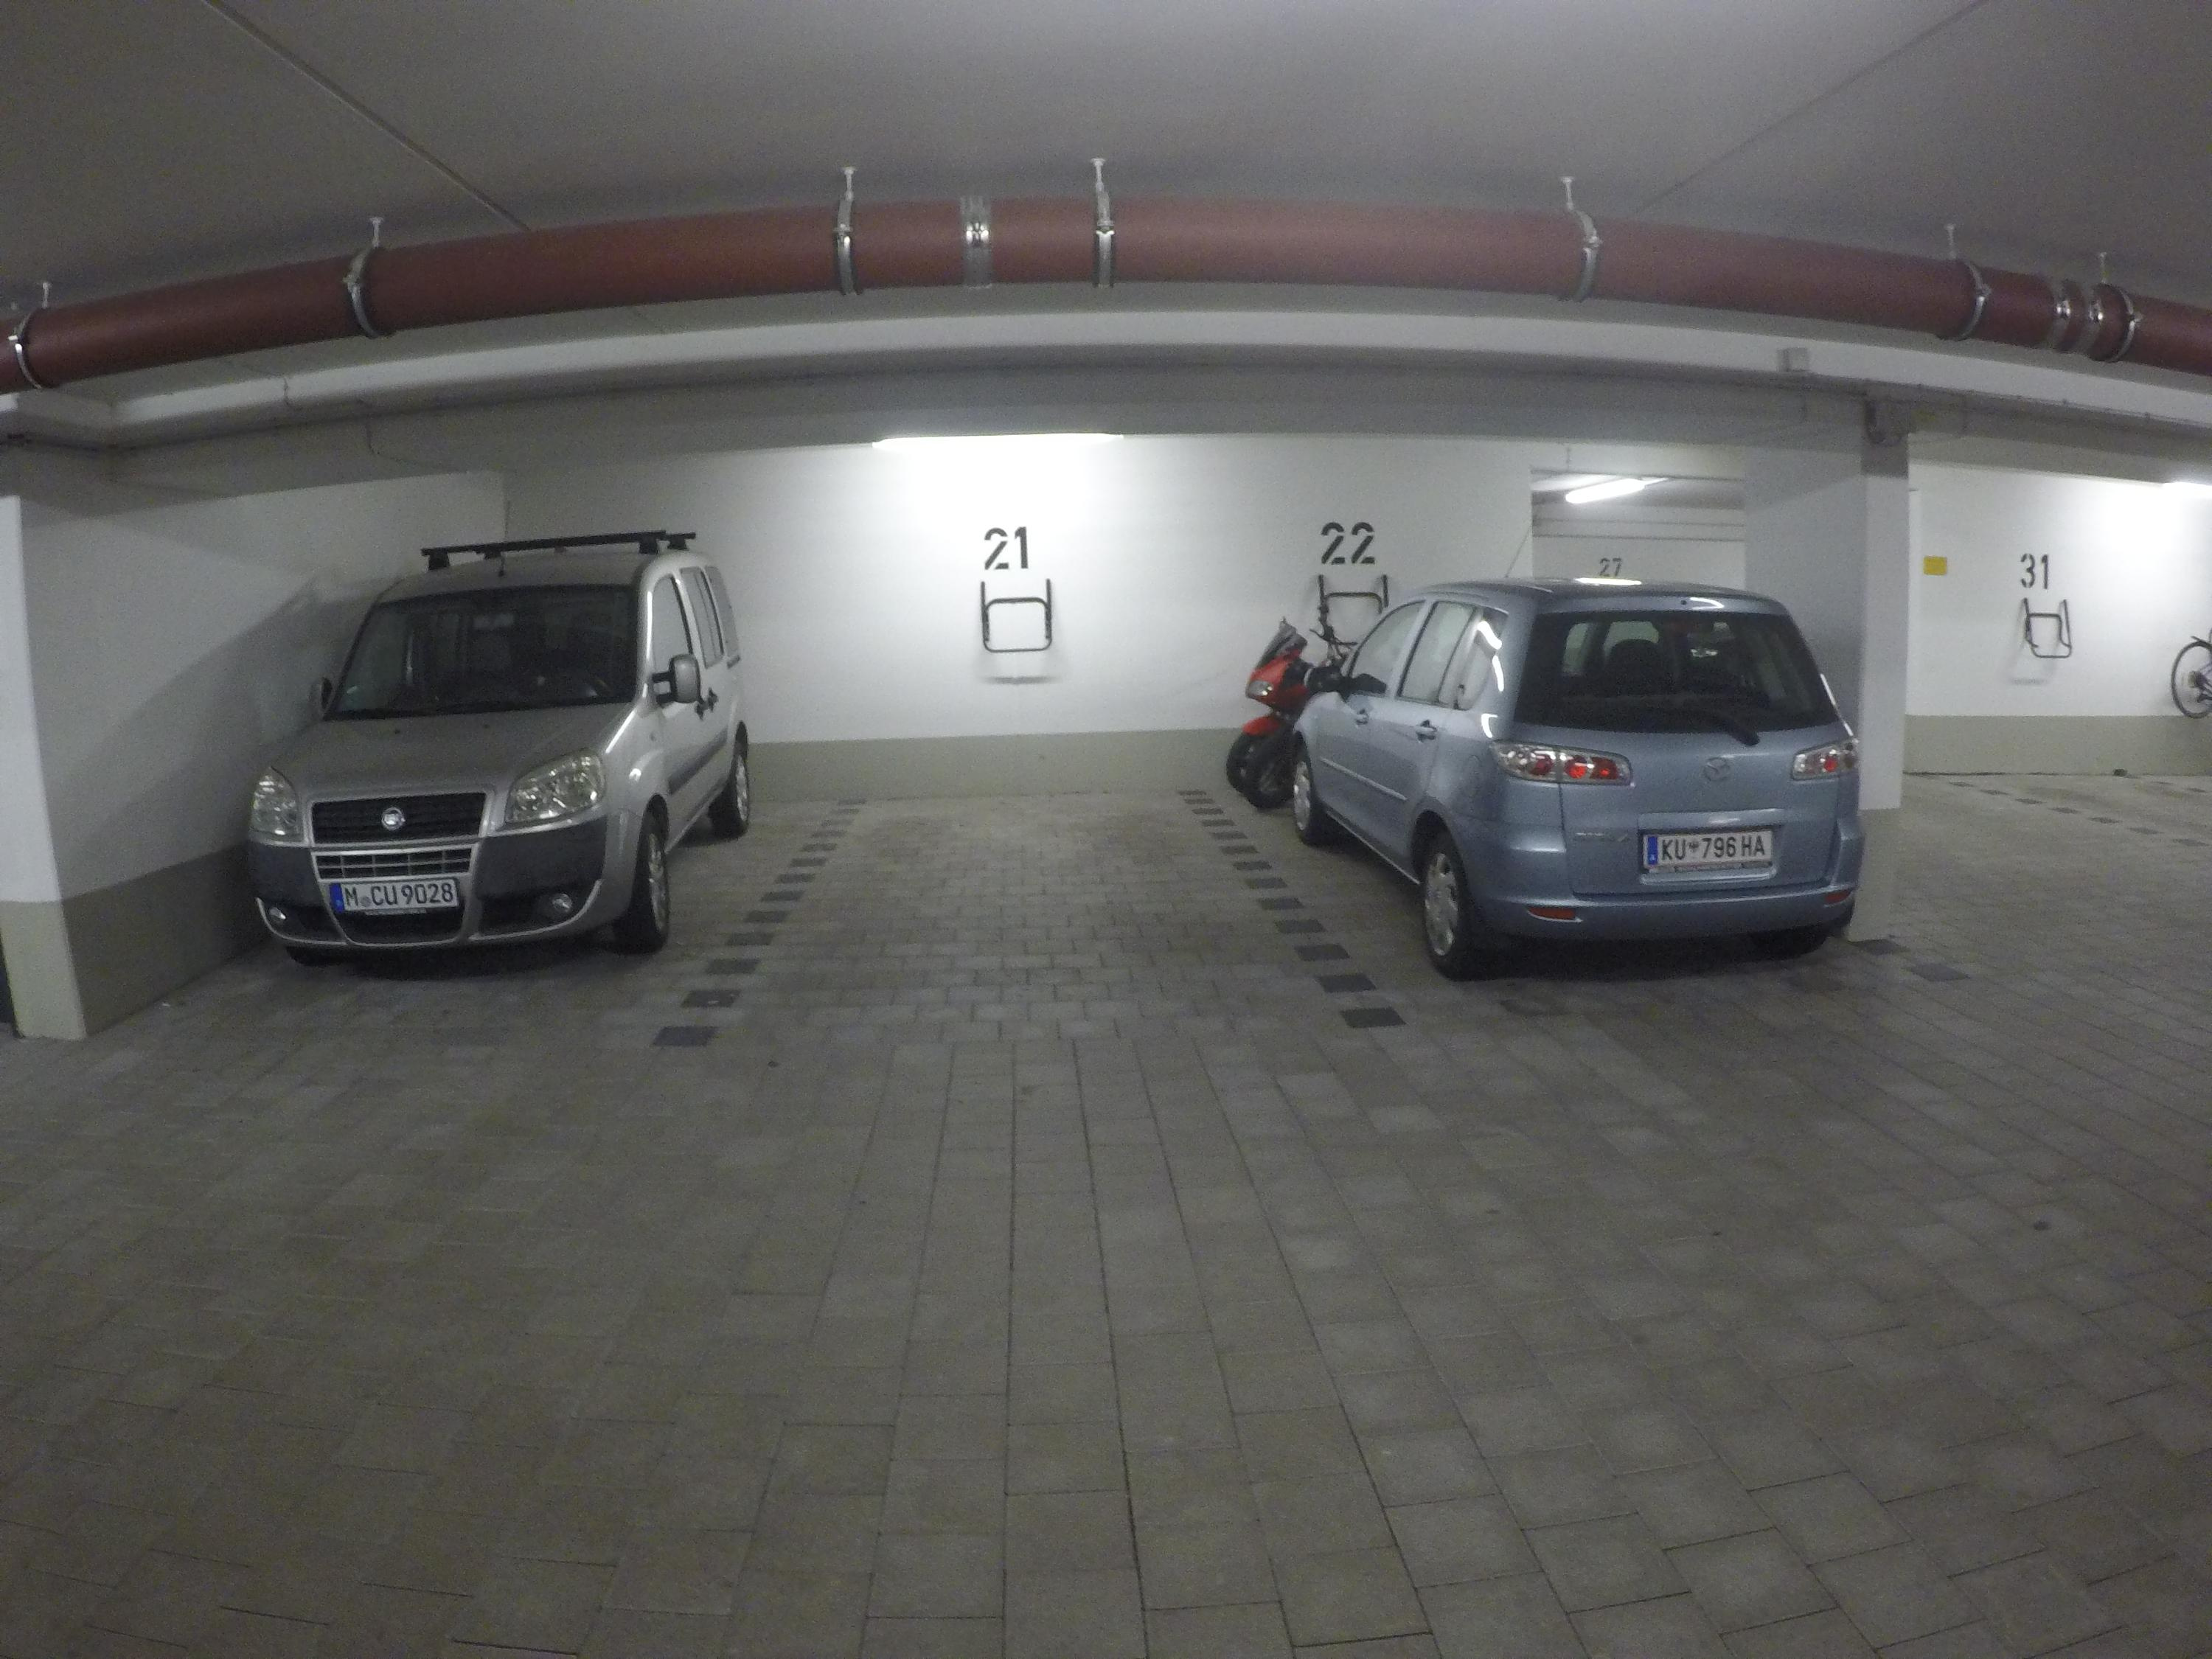0: (414, 883, 428, 904)
2: (428, 883, 440, 903)
6: (1725, 835, 1737, 858)
7: (1701, 836, 1712, 860)
8: (441, 880, 453, 902)
9: (400, 883, 414, 905), (1712, 836, 1725, 858)
A: (1753, 834, 1766, 856)
C: (370, 886, 384, 905)
H: (1740, 834, 1753, 857)
K: (1661, 837, 1673, 862)
M: (344, 886, 359, 908)
U: (383, 883, 398, 906), (1674, 838, 1686, 860)
